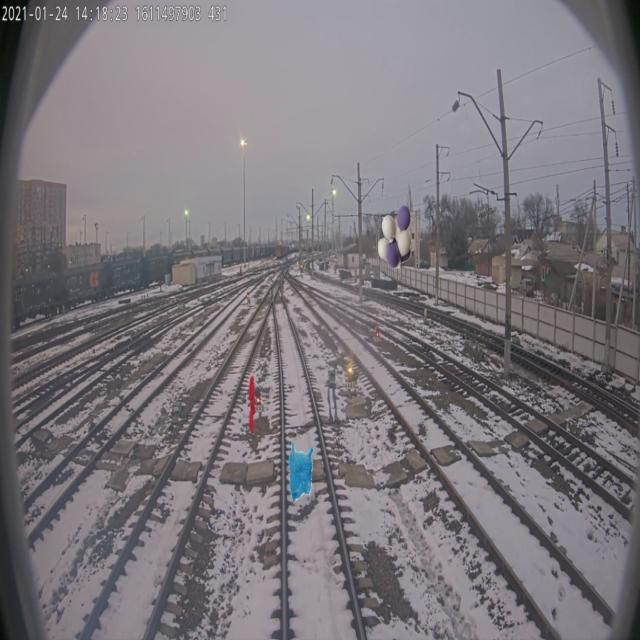balloon: (378, 204, 412, 268)
floating object: (249, 372, 257, 436)
plastic bag: (288, 439, 314, 504)
